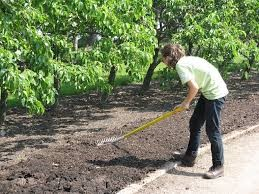dirt: (1, 121, 94, 191), (220, 80, 258, 131), (124, 131, 155, 182), (158, 117, 188, 158), (96, 142, 121, 190), (94, 106, 137, 130)
tree: (139, 68, 152, 93)
